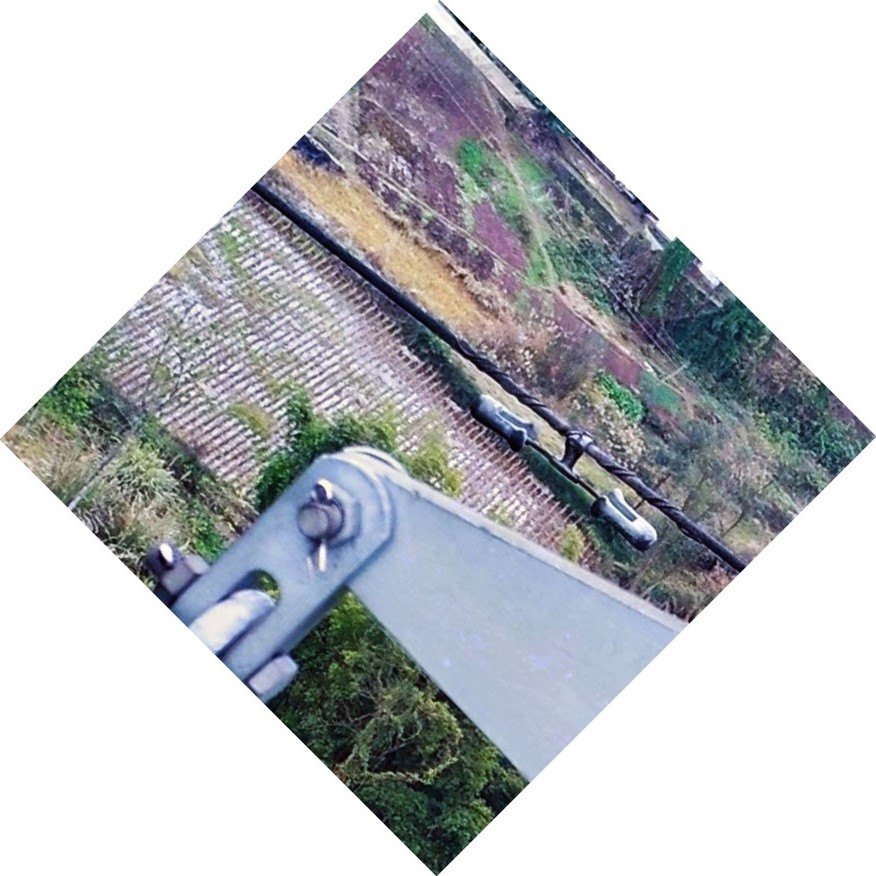Shockproof hammer: (465, 365, 665, 565)
